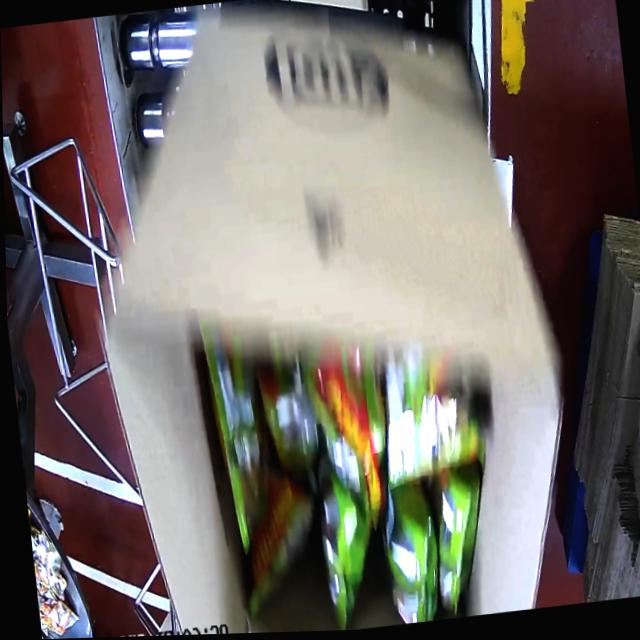YOGURT_HERB: (189, 307, 486, 635)
